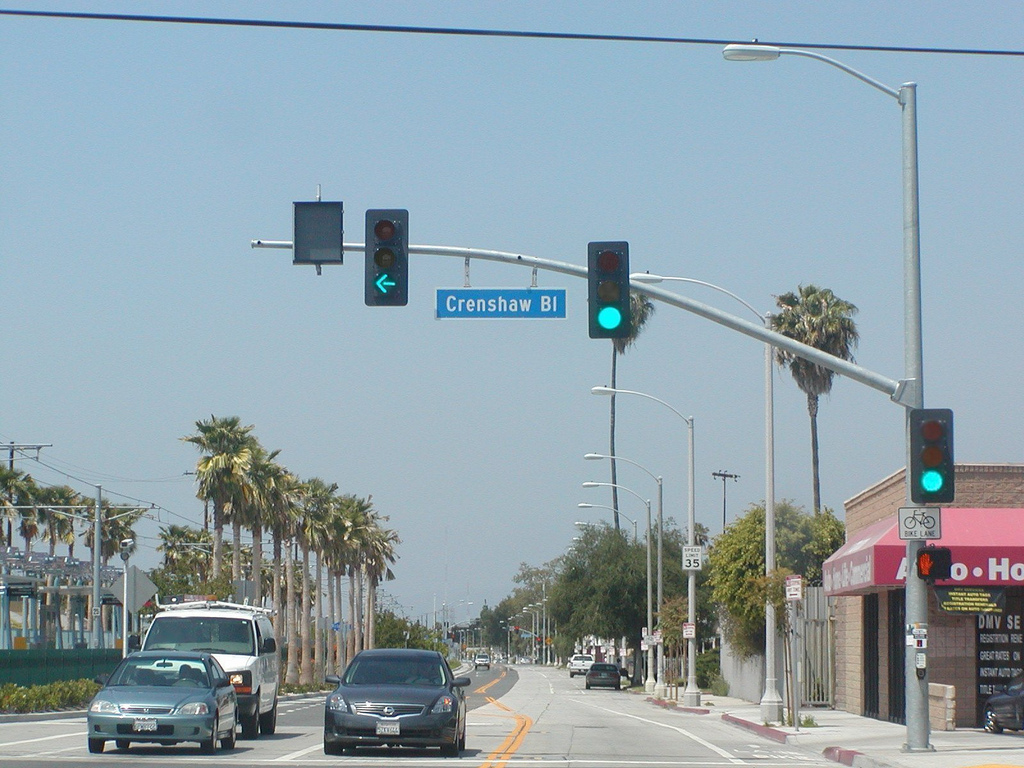traffic_light: (363, 207, 410, 308), (908, 407, 956, 505), (586, 240, 632, 340)
